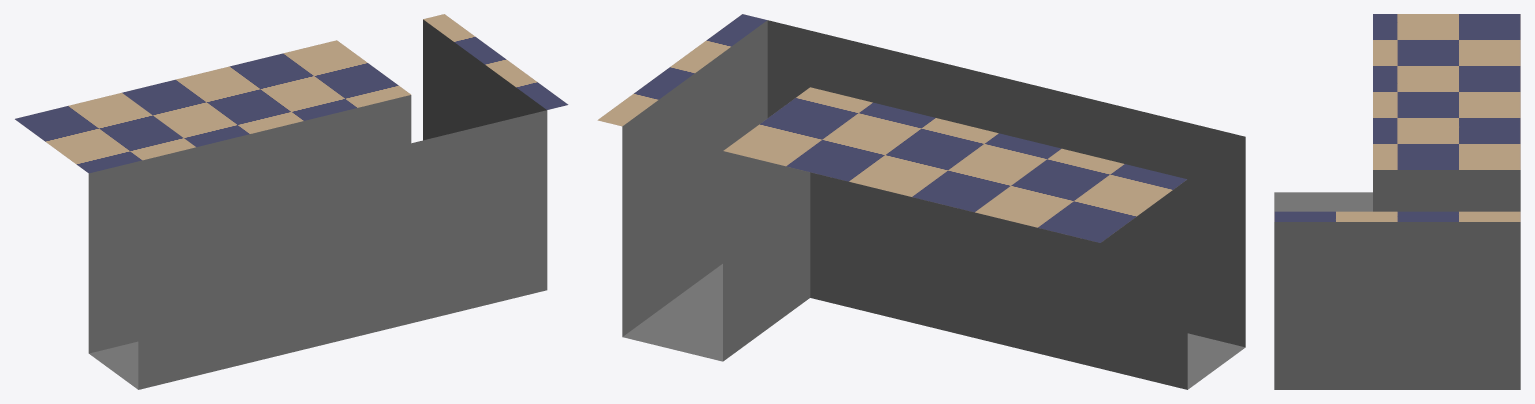
The model's file is Block_End.fbx.
3 views of the same model, side by side, from view 1: azimuth 30°, elevation 25°; view 2: azimuth 150°, elevation 25°; view 3: azimuth 270°, elevation 25° (orthographic). The views are drawn at different scales.
Visible parts, largest first — view 1: Block2; view 2: Block2; view 3: Block2.
Boxes of the visible parts, box(x1,y1,x2,y2) form: Block2: box(15, 14, 568, 389); Block2: box(597, 14, 1245, 389); Block2: box(1274, 14, 1520, 389).
Size of the model in its own units: 1000 by 400 by 500.
